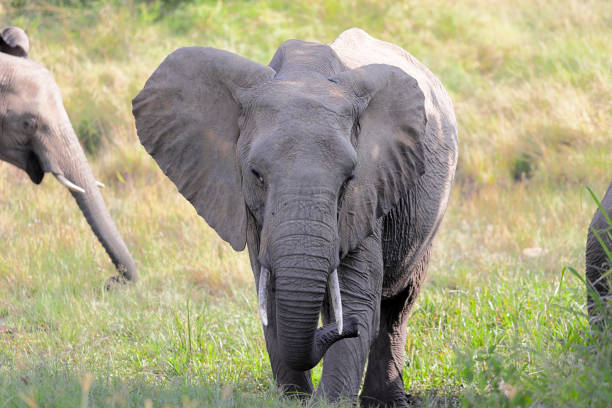africanelephant: (223, 46, 374, 366)
